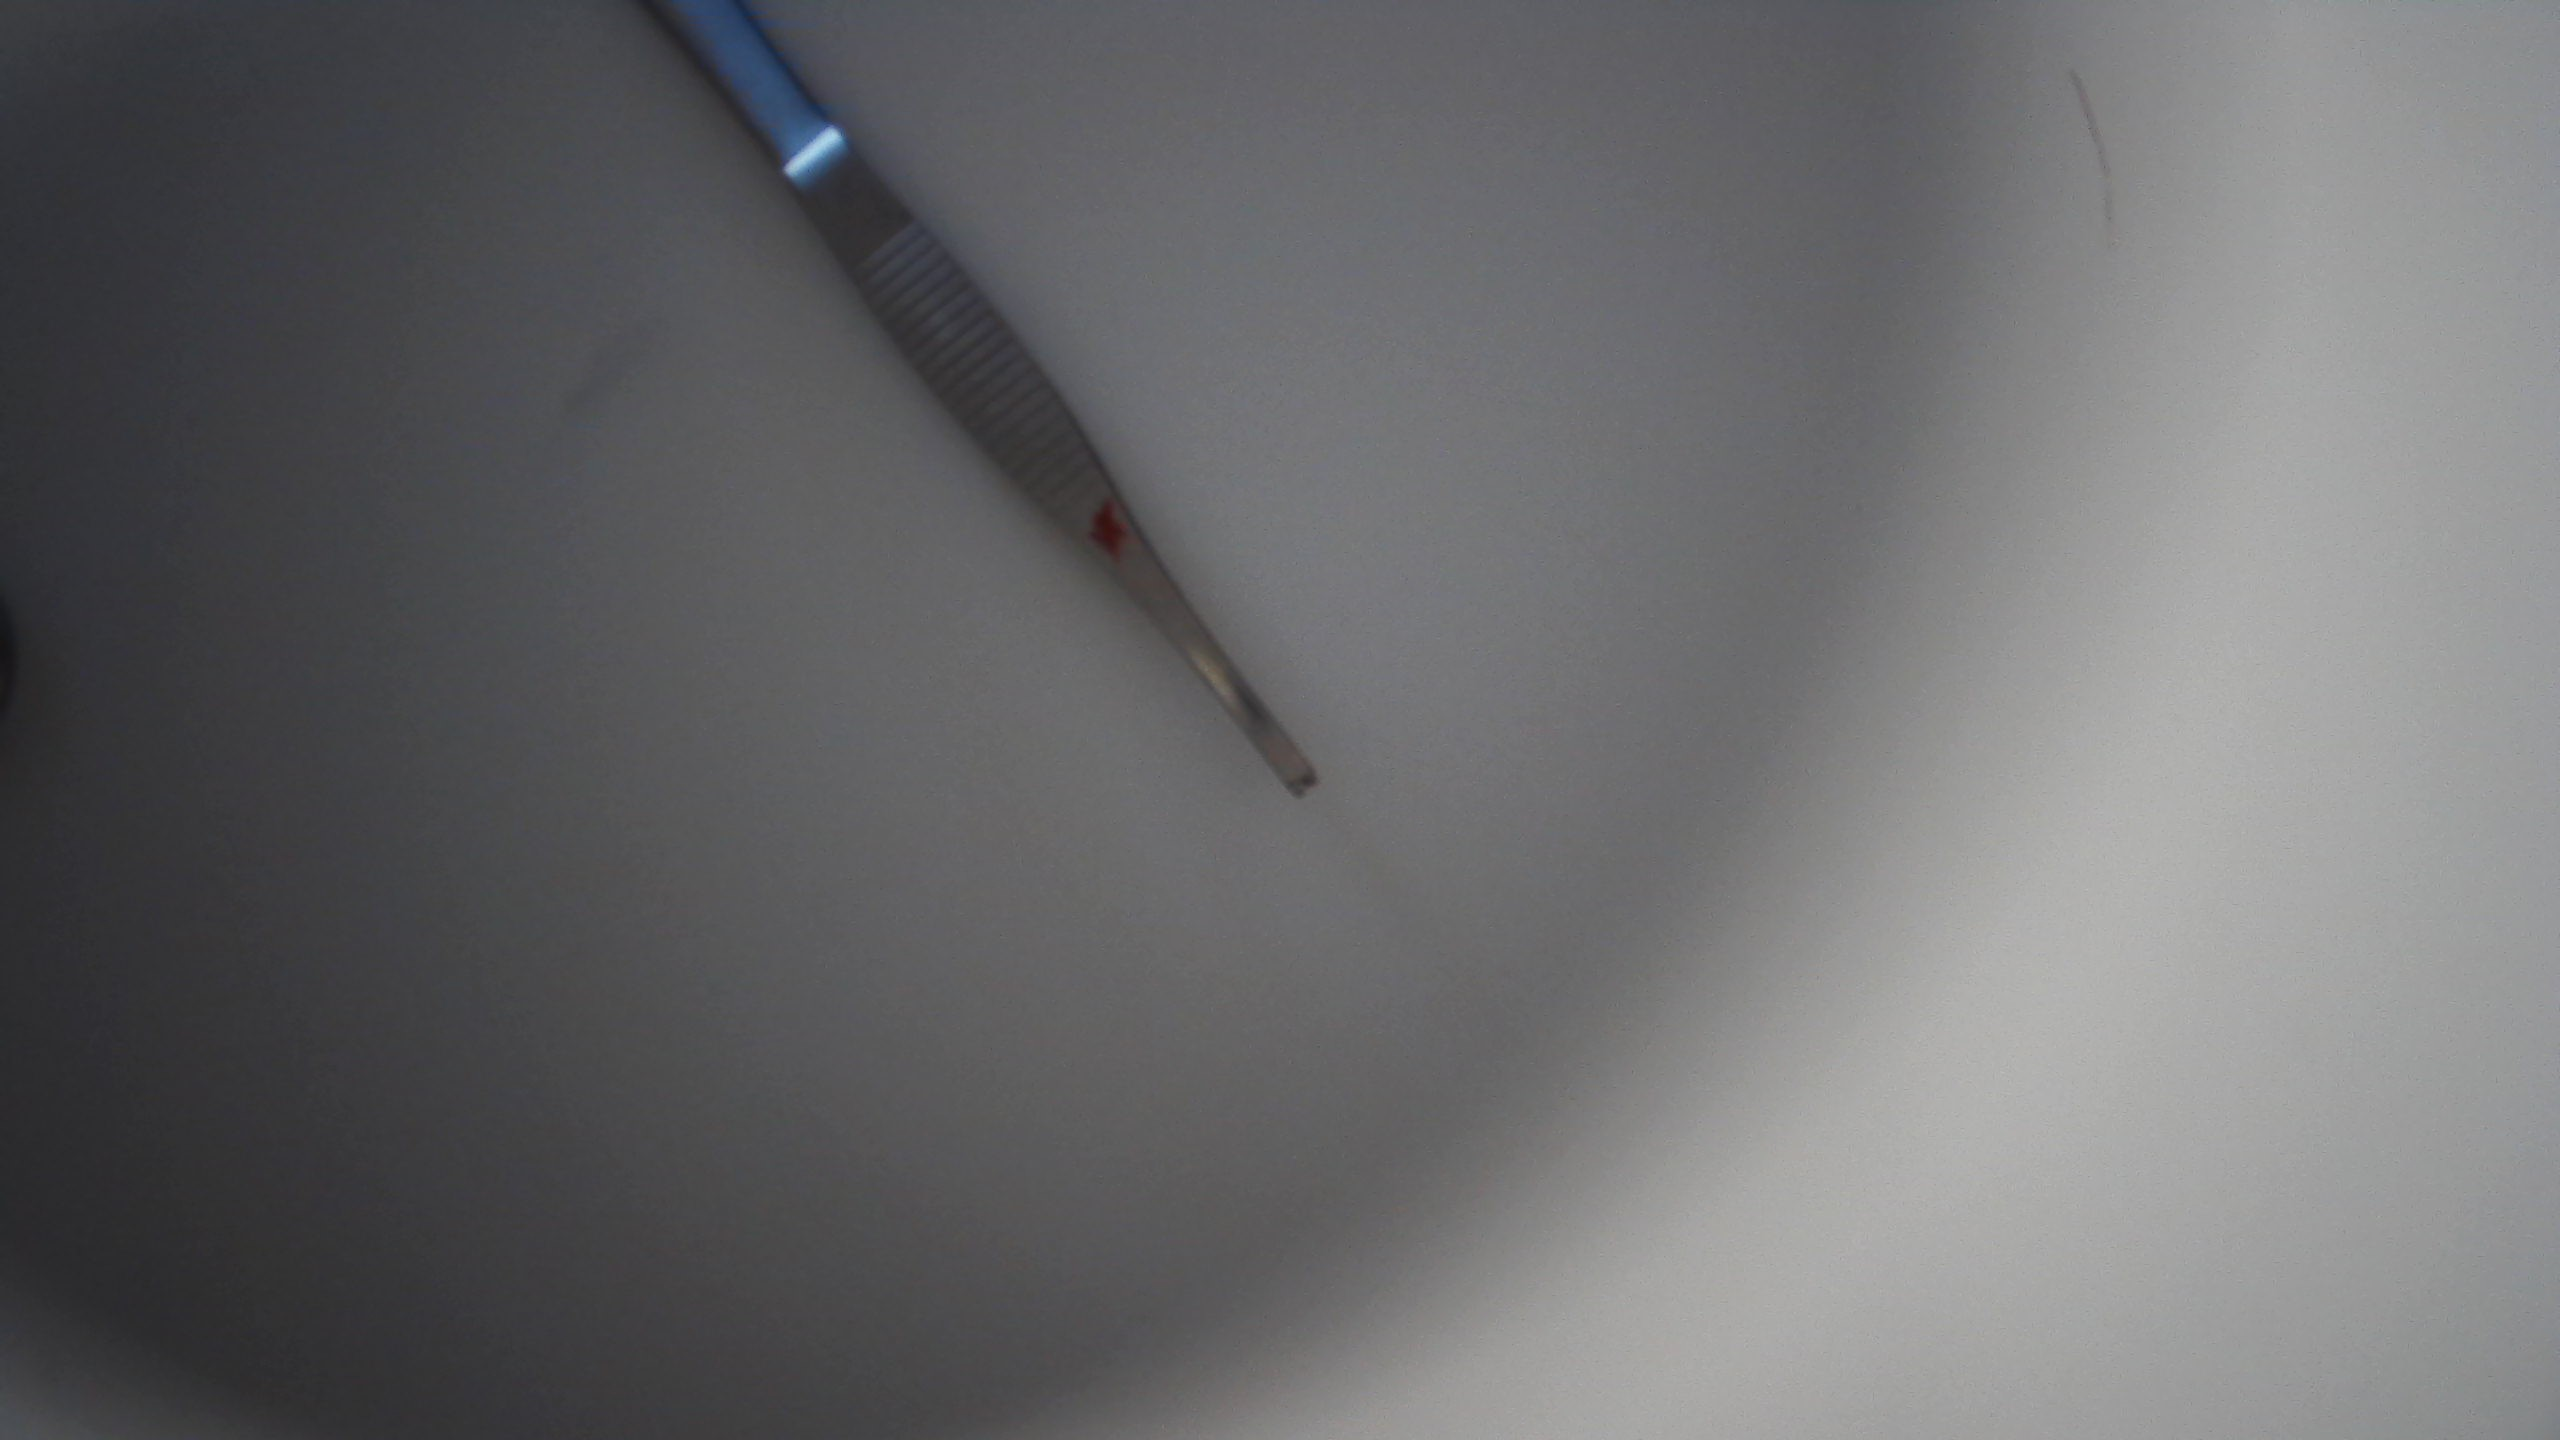Stain: (1077, 494, 1129, 569)
